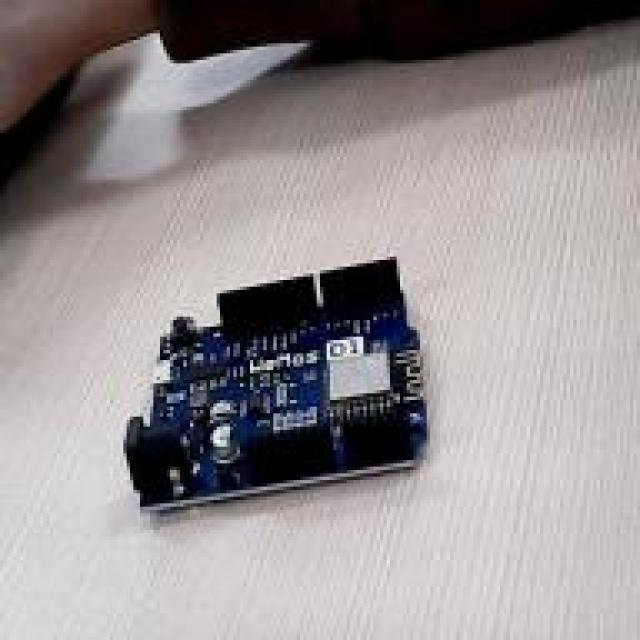Wemos: (124, 258, 424, 508)
